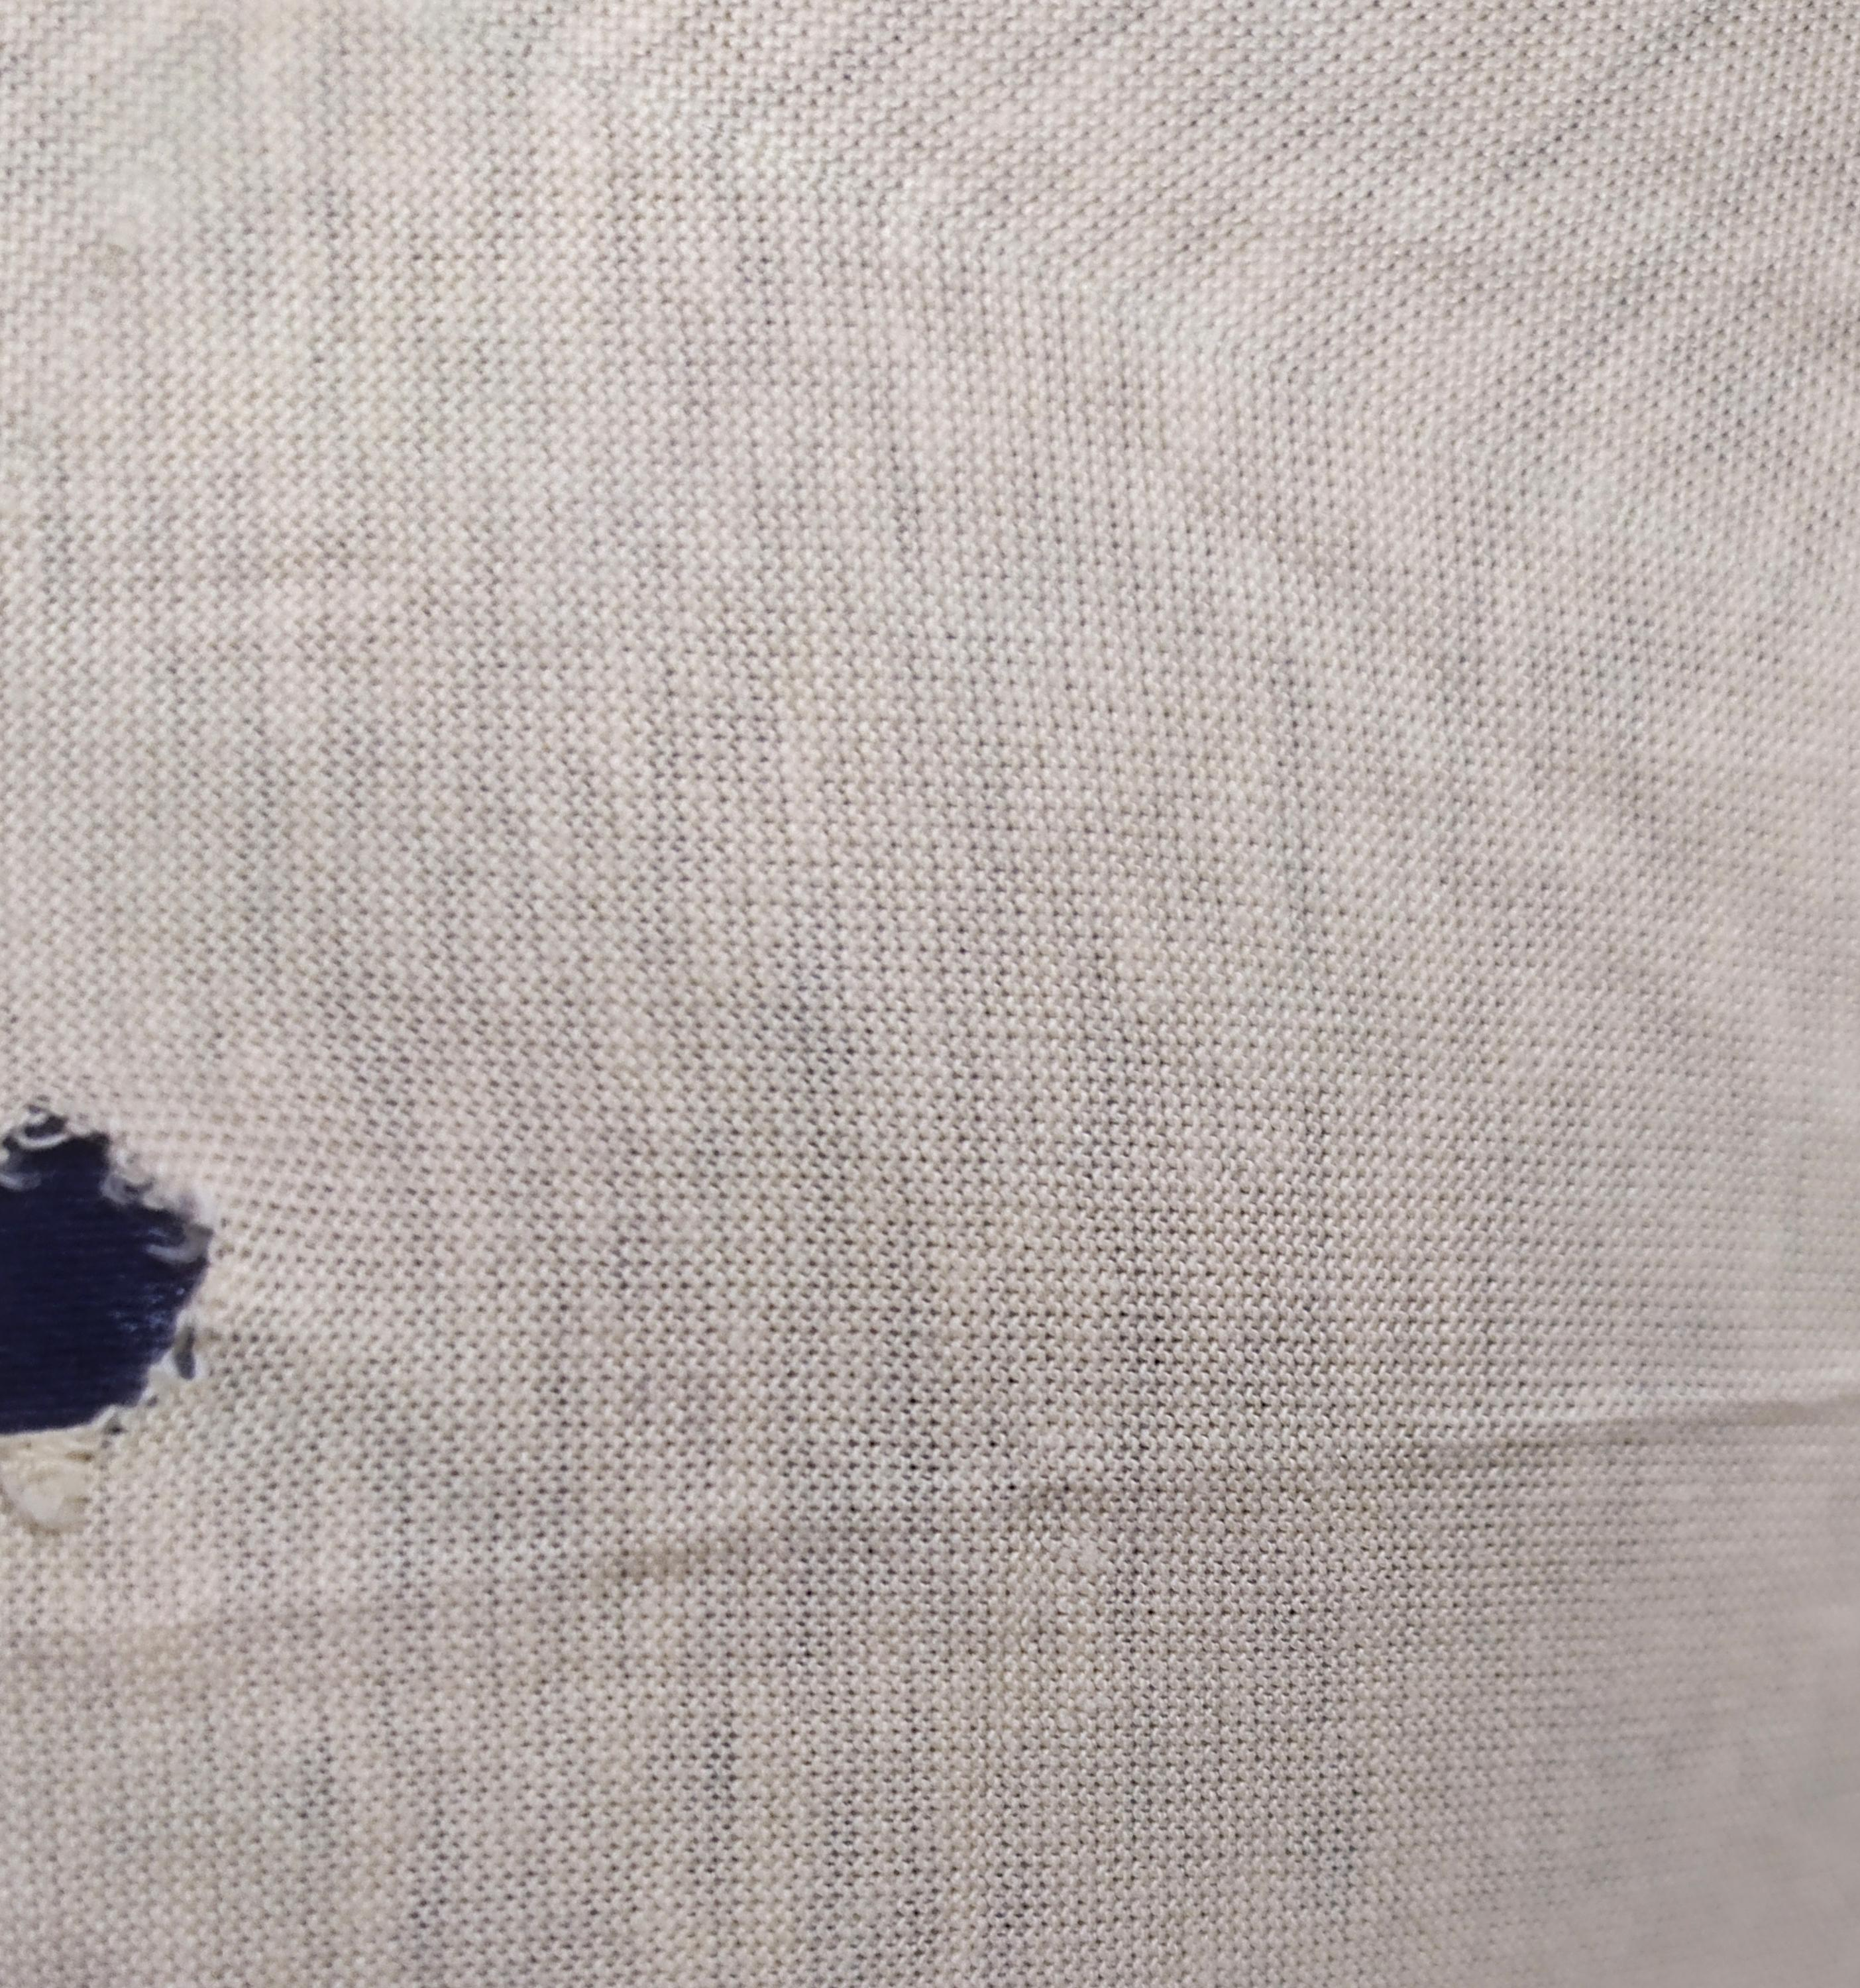hole: (0, 1061, 273, 1535)
